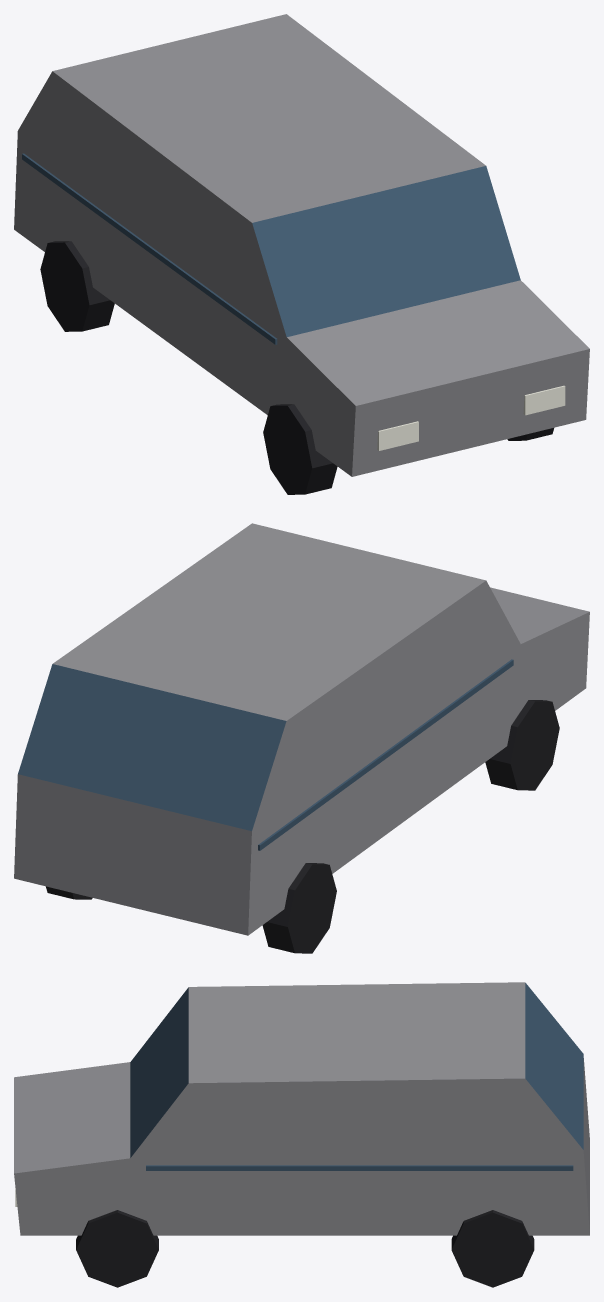
Rendered from carro_rua_6.glb.
3 views of the same model, one above another, from view 1: azimuth 30°, elevation 25°; view 2: azimuth 150°, elevation 25°; view 3: azimuth 270°, elevation 25° (orthographic). The views are drawn at different scales.
Visible parts, largest first — view 1: cor, vi, pre, far; view 2: cor, vi, pre; view 3: cor, vi, pre.
Boxes of the visible parts, bbox=[...] form: cor: bbox=[14, 14, 589, 476]; vi: bbox=[22, 153, 520, 344]; pre: bbox=[40, 241, 553, 494]; far: bbox=[377, 385, 565, 450]; cor: bbox=[14, 523, 589, 935]; vi: bbox=[18, 659, 513, 850]; pre: bbox=[46, 700, 559, 953]; cor: bbox=[14, 982, 589, 1235]; vi: bbox=[130, 983, 583, 1170]; pre: bbox=[76, 1210, 534, 1287].
Size of the model in its own units: 1.86 by 1.76 by 4.45.
